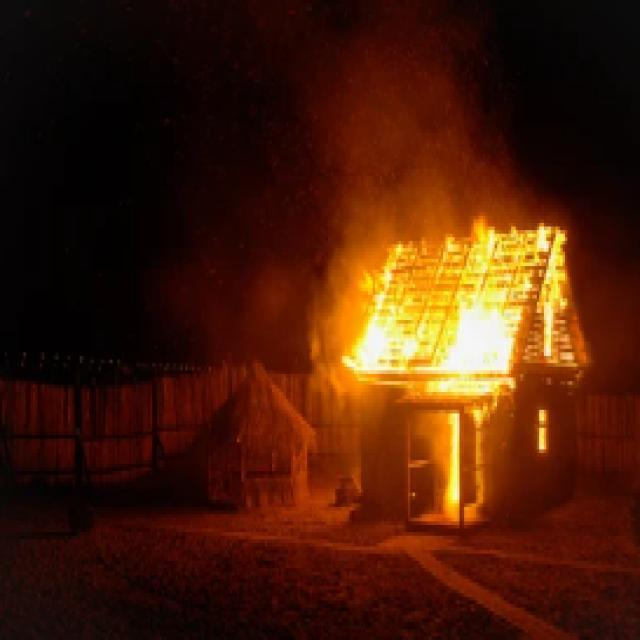Fire: (332, 210, 582, 516)
